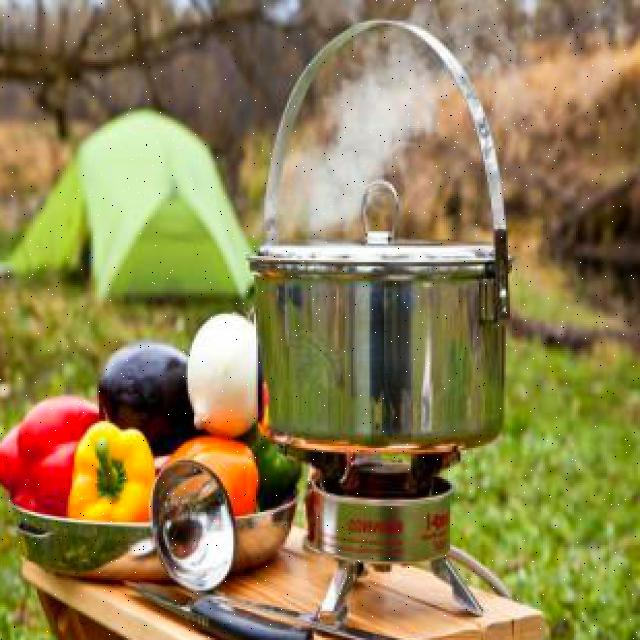smoke: (287, 43, 440, 246)
